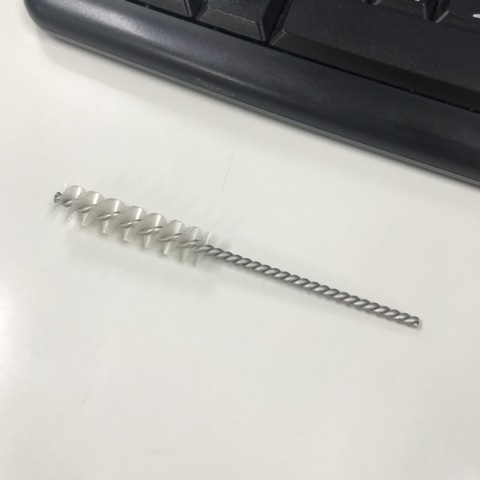Twist Brush-B: (51, 180, 421, 334)
